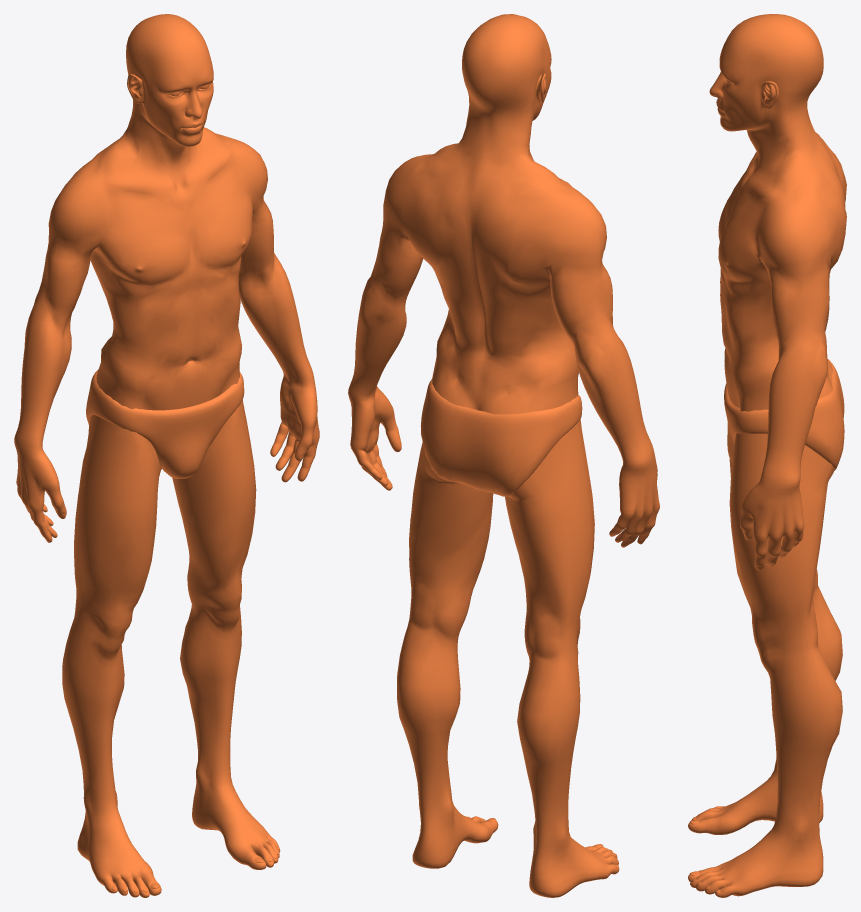
Rendered from Persona.obj.
3 renders of one model, left to right at view 1: azimuth 30°, elevation 25°; view 2: azimuth 150°, elevation 25°; view 3: azimuth 270°, elevation 25°, orthographic. The views are drawn at different scales.
Visible parts, largest first — view 1: FreeAllSTL.005; view 2: FreeAllSTL.005; view 3: FreeAllSTL.005.
Part boxes in pixels (<box>): FreeAllSTL.005: <box>14,14,319,897</box>; FreeAllSTL.005: <box>348,14,659,897</box>; FreeAllSTL.005: <box>688,14,846,897</box>.
Bounding box in the file's own units: 3.26 × 8.91 × 1.53.
